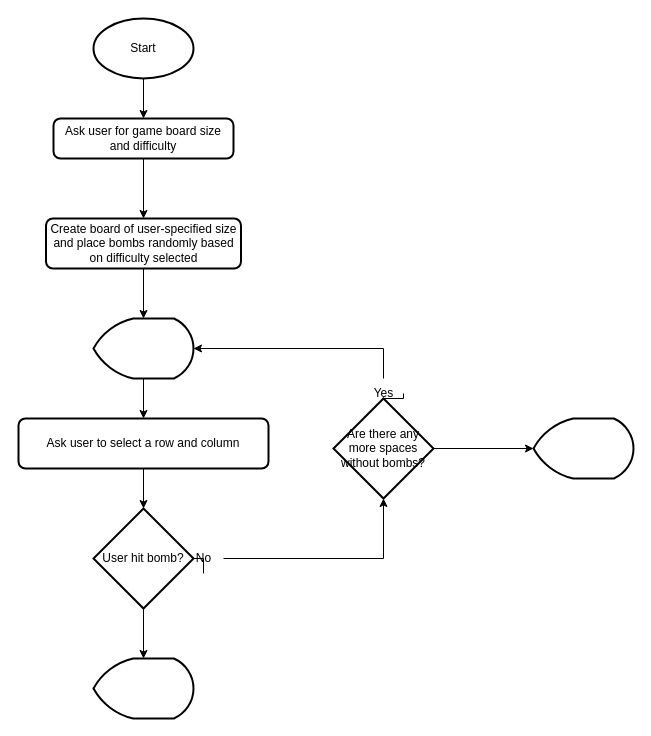
Some shapes in this 651 by 736 pixel diagram are drawn without their labels. Here are the shapes that lost their labels. From the top down, the centre of each, then its label:
At point 143,348: "Display board".
At point 583,448: "You Win message".
At point 143,688: "You lose message".
